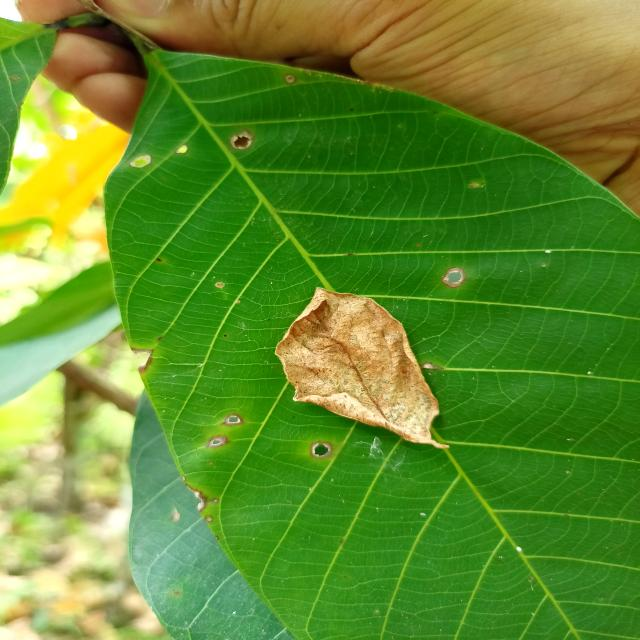Colletotrichum: (440, 267, 467, 288), (228, 130, 255, 150), (310, 440, 334, 459), (220, 412, 244, 427), (128, 154, 152, 168), (205, 434, 229, 448), (282, 74, 296, 85), (175, 144, 189, 154), (204, 514, 214, 522), (212, 498, 220, 503), (156, 258, 162, 262), (224, 334, 228, 338)
